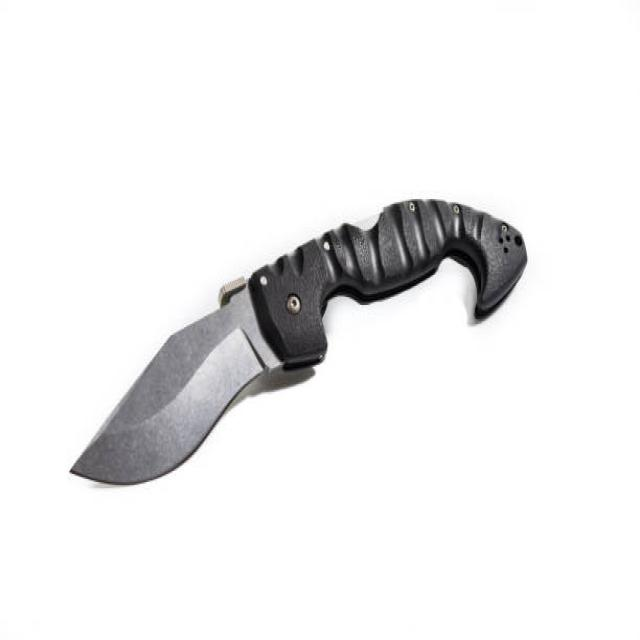knife: (65, 190, 532, 502)
